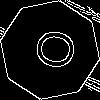O: (25, 25, 77, 72)
